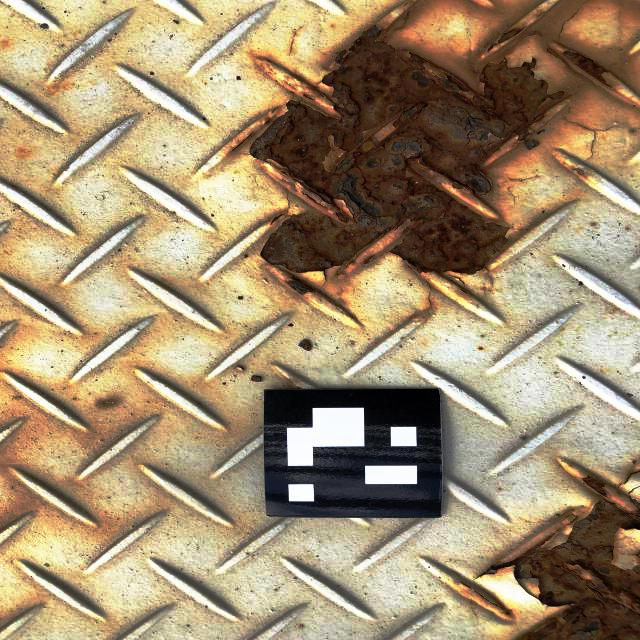Corrosion: (228, 23, 638, 296), (484, 459, 640, 640)
